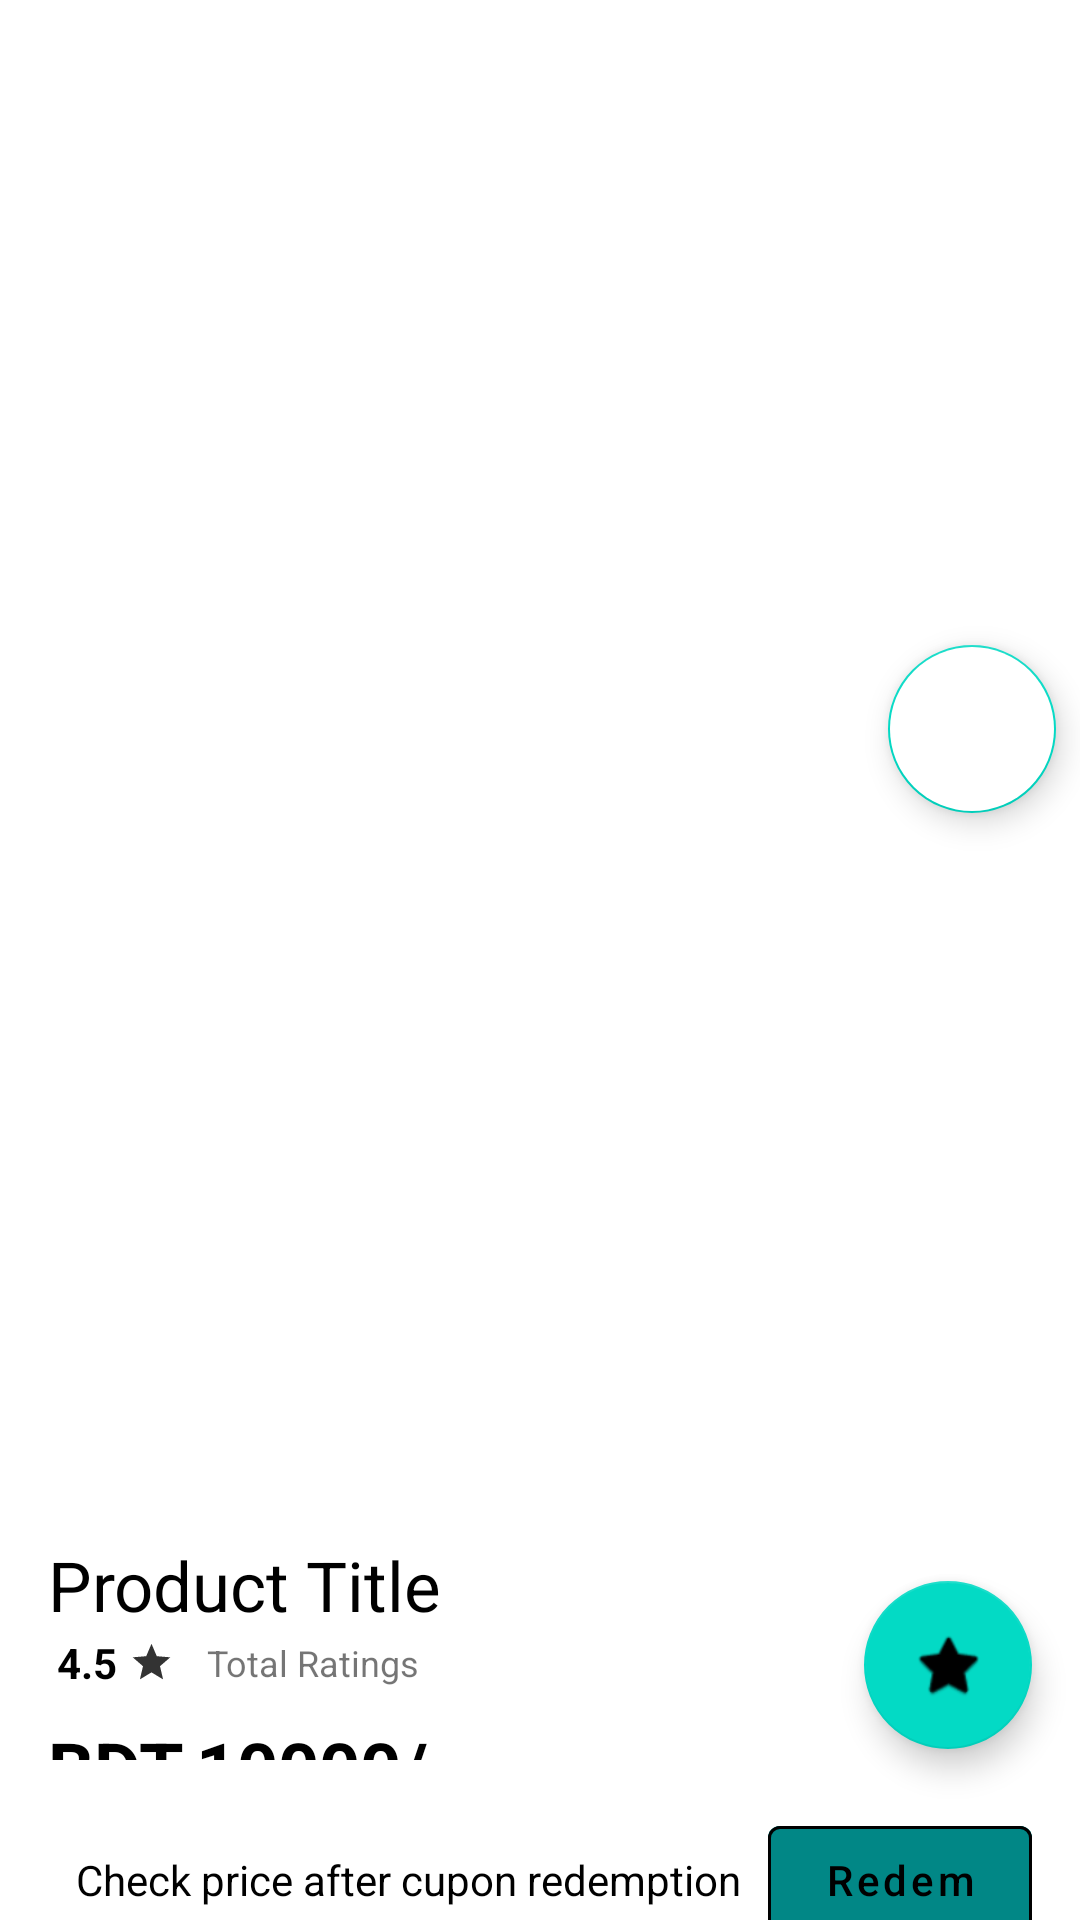

Point at icon controls on the screen. Image size 1080w x 1920h, points as [x,y].
star: [151,1661]
